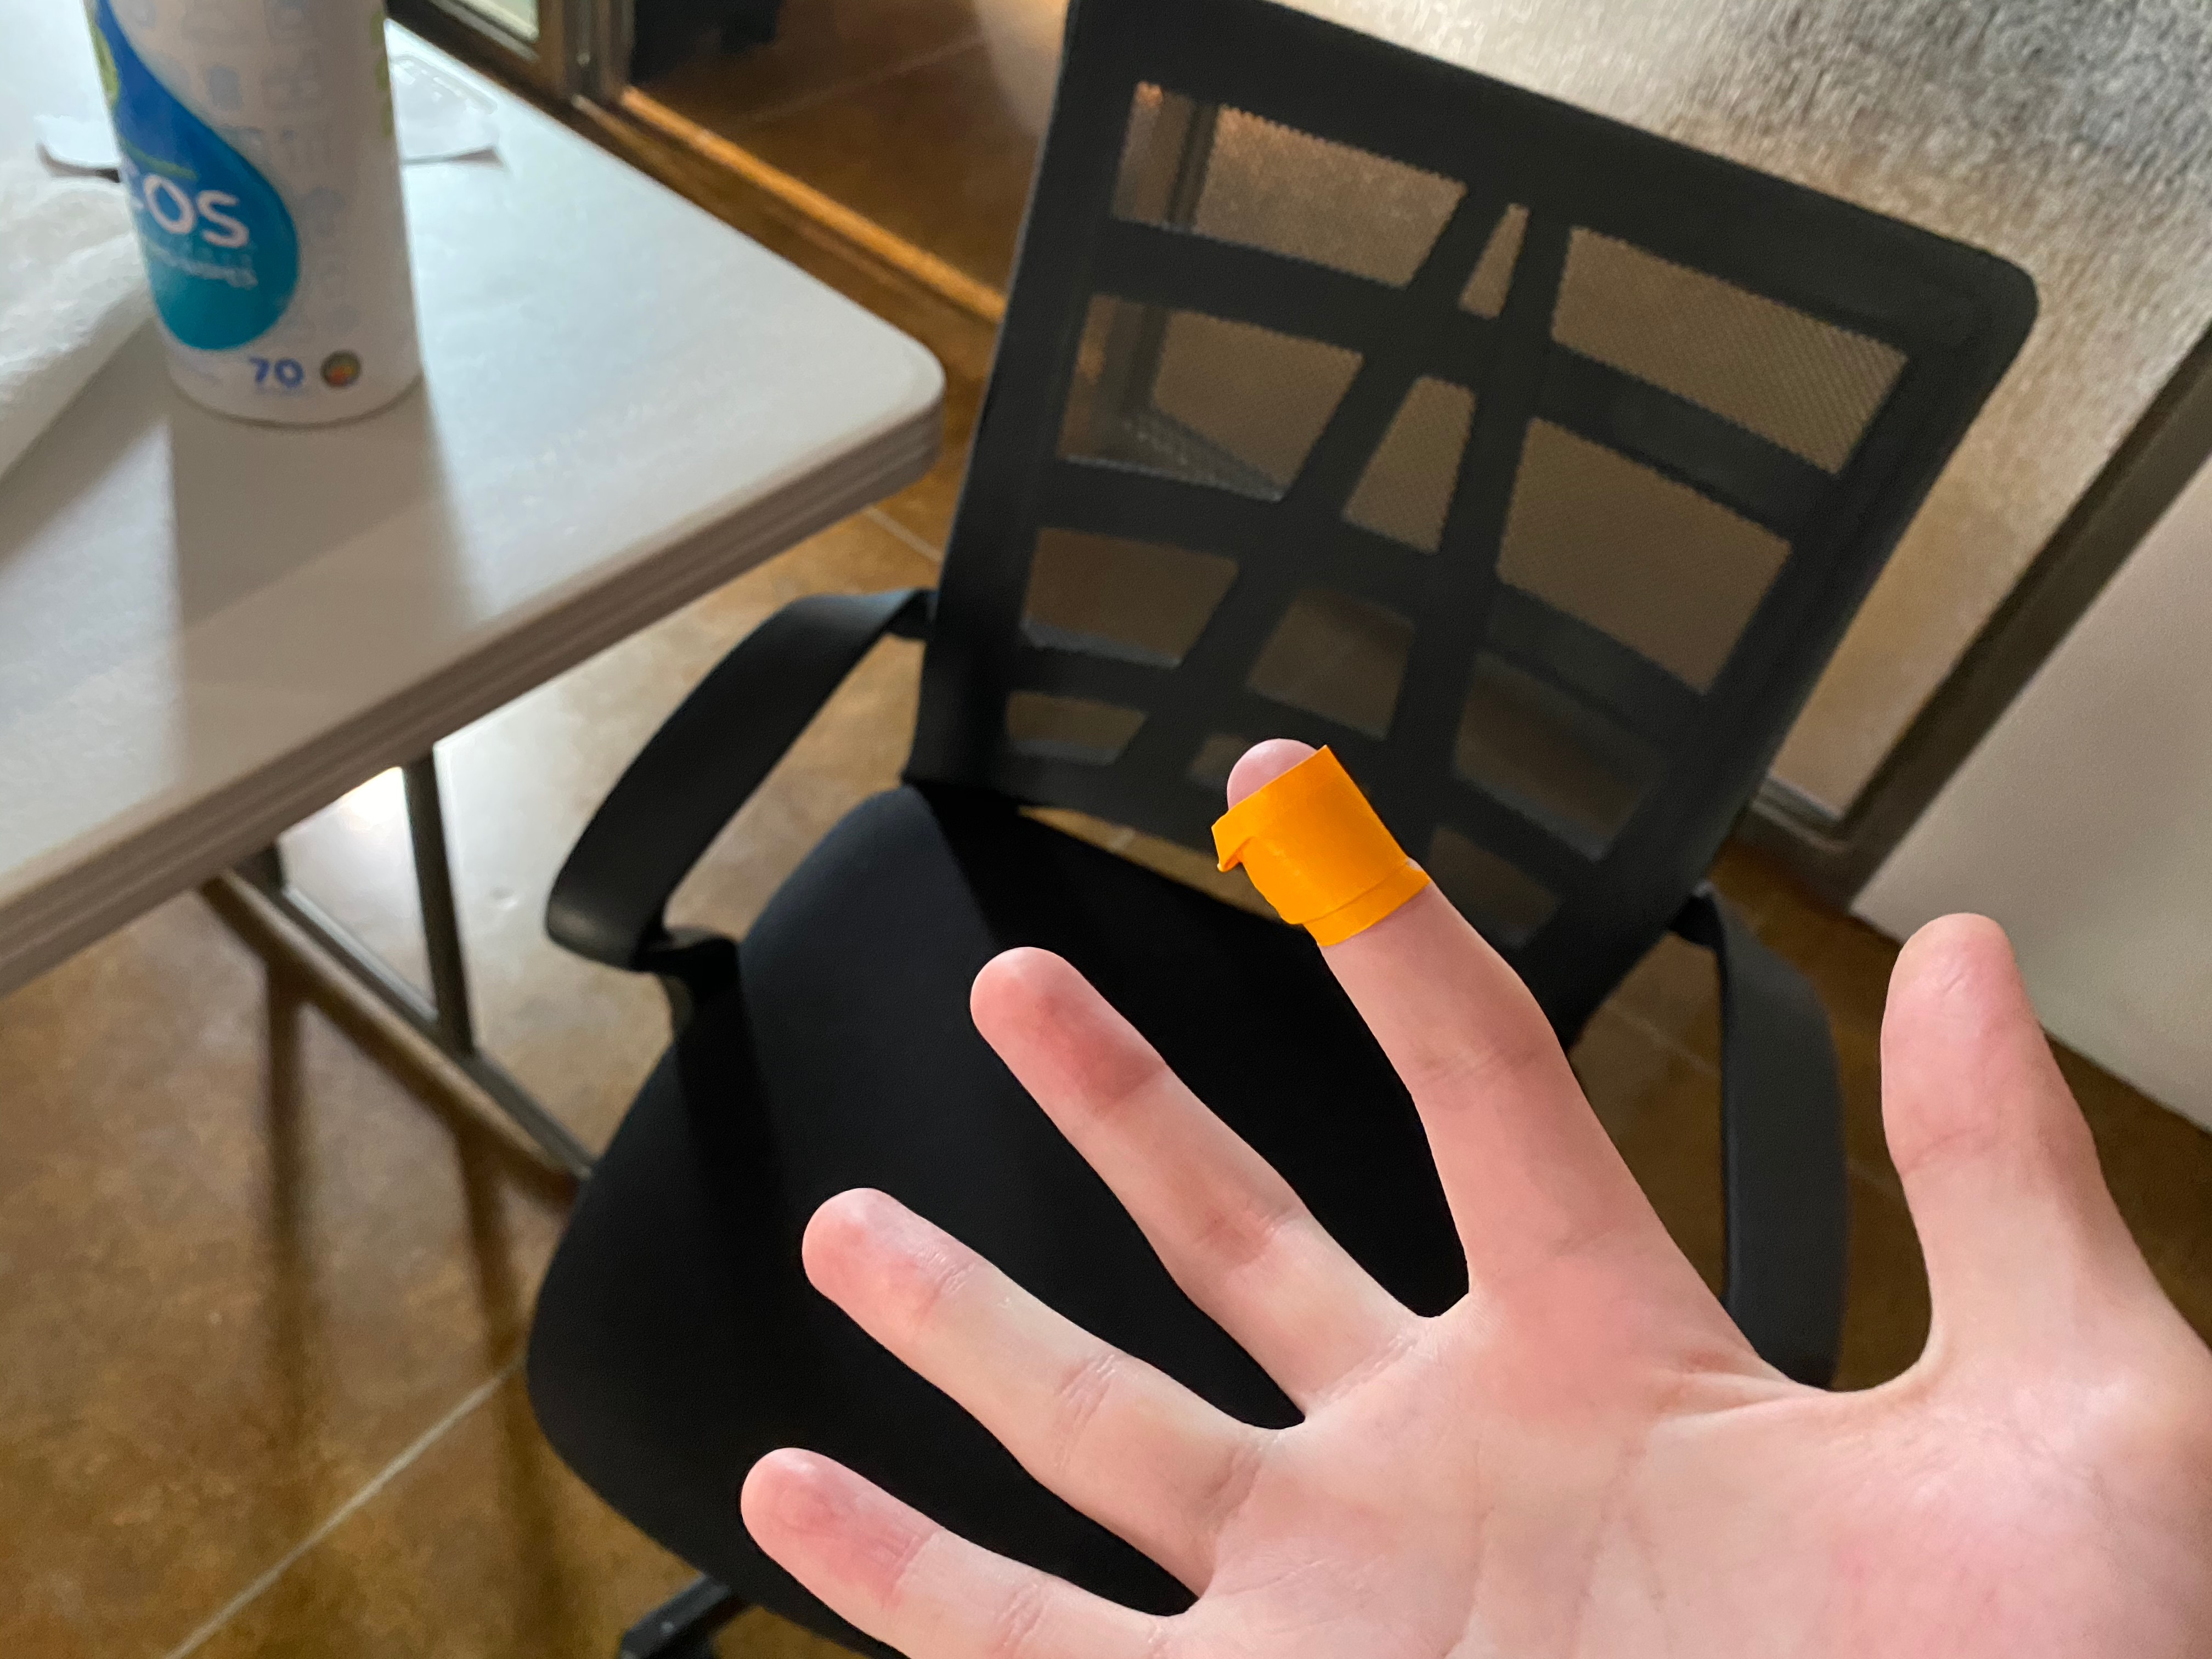fingertip: (1202, 713, 1458, 981)
